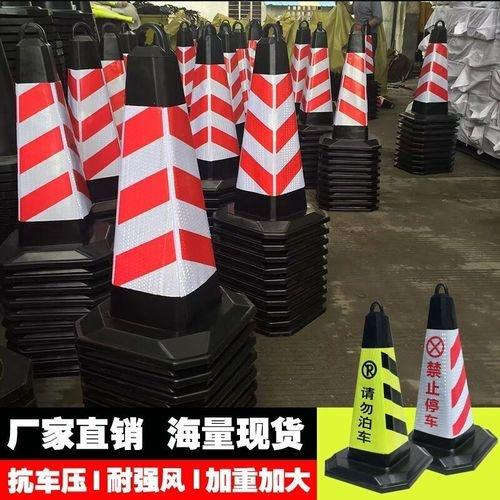cone_barrel: (98, 48, 230, 355), (7, 30, 100, 255), (218, 35, 314, 226), (333, 301, 416, 471), (402, 283, 483, 449), (61, 10, 121, 180), (325, 22, 381, 142), (408, 18, 453, 114), (296, 23, 334, 131), (288, 15, 311, 104)
